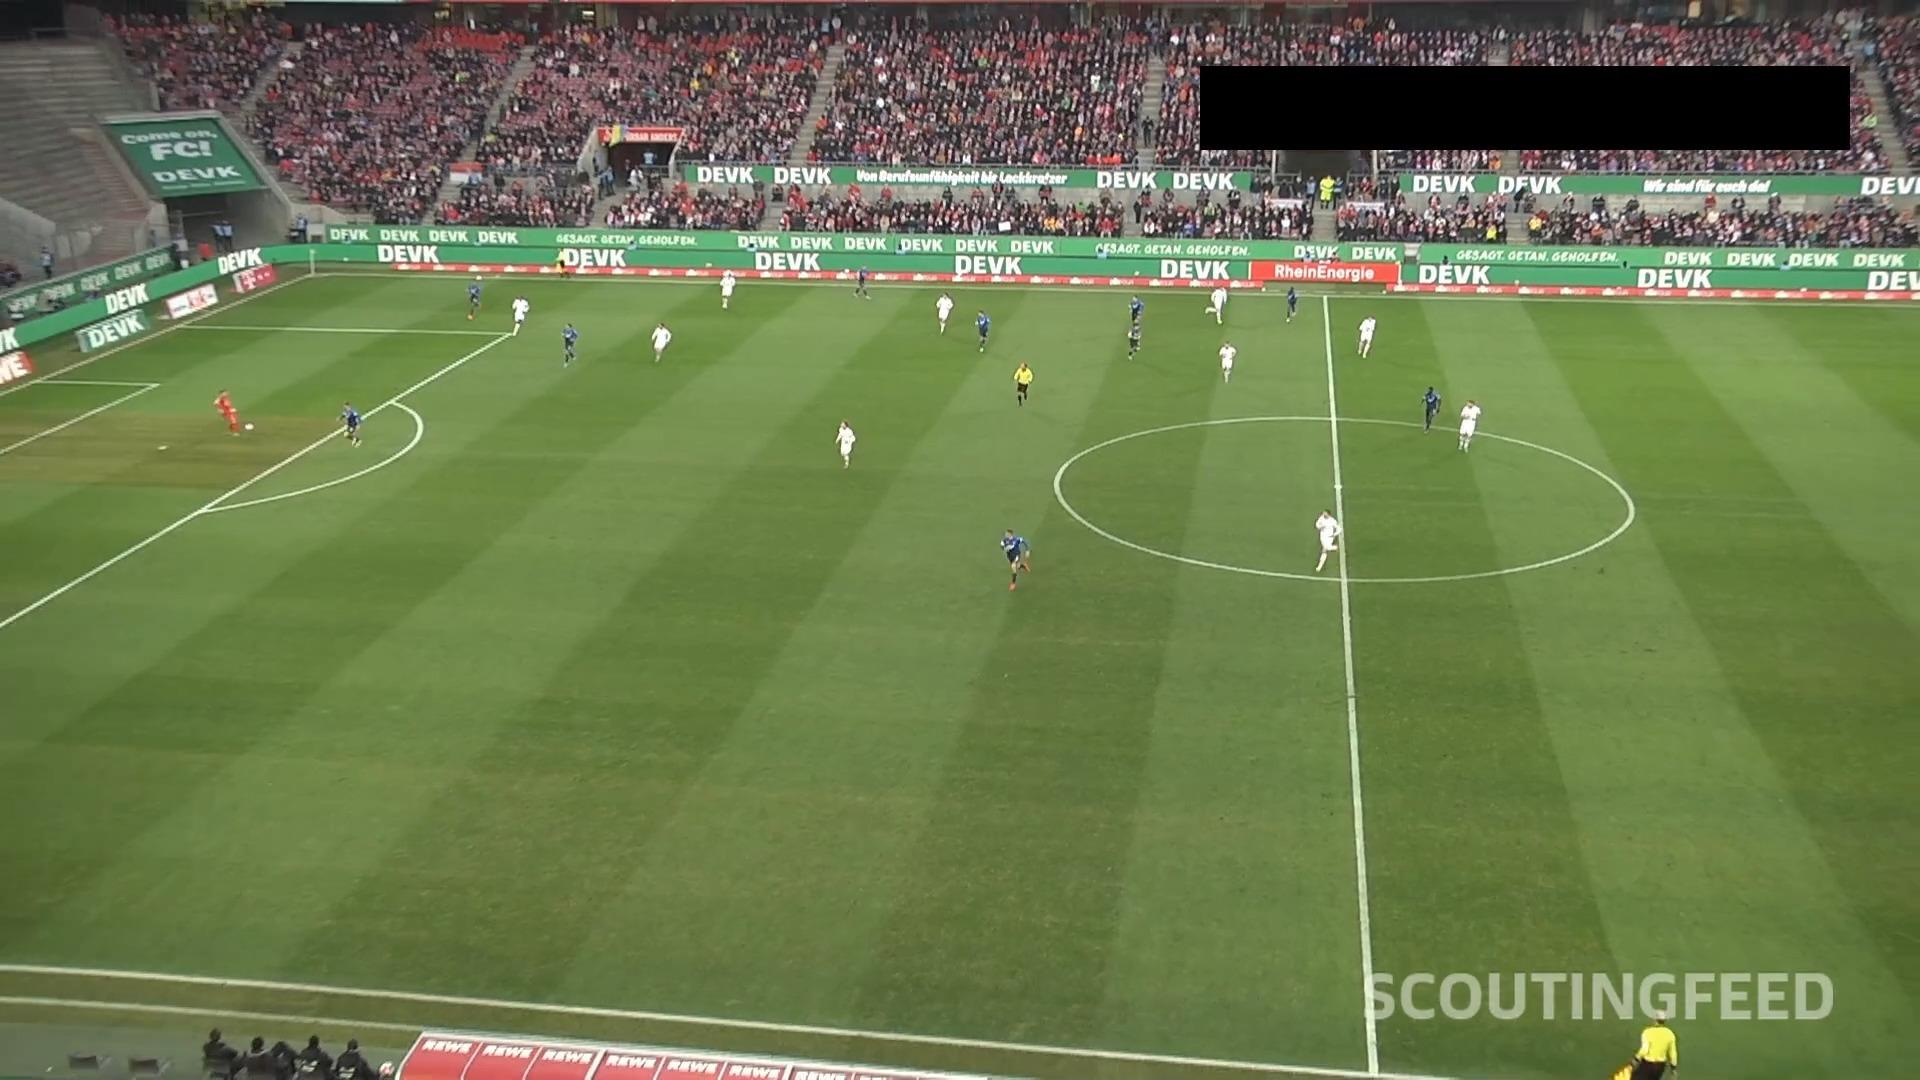ball: (245, 422, 255, 431)
